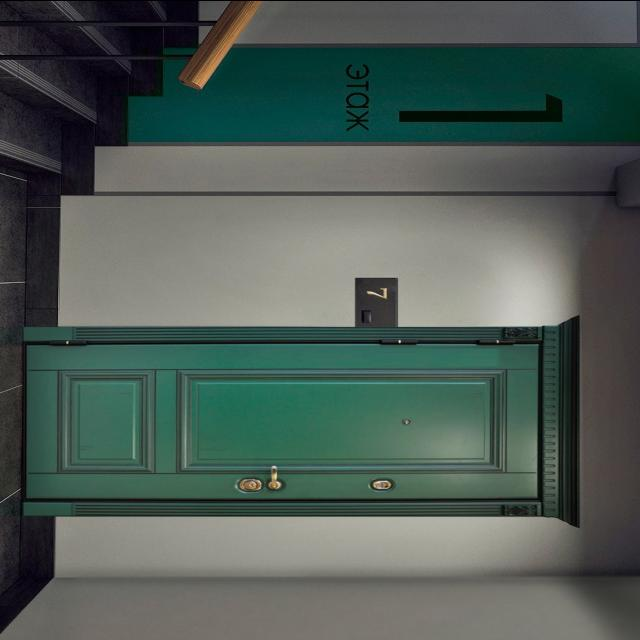close: (30, 346, 542, 512)
